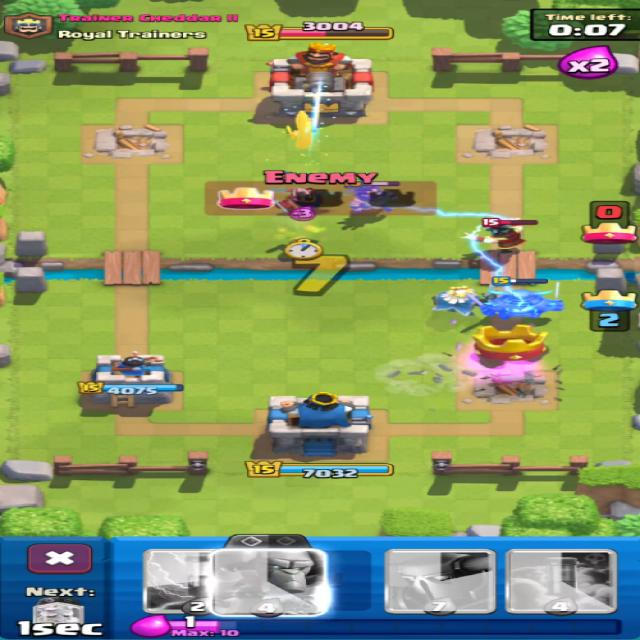Enemy-ElectroWizard: (465, 221, 536, 250)
Enemy-KingTower-Activated: (269, 43, 372, 116)
Player-ElectroWizard: (349, 186, 390, 213)
Player-KingTower-Activated: (266, 392, 372, 456)
Player-MagicArcher: (275, 188, 319, 212)
Player-PEKKA: (480, 283, 562, 319)
Player-PrincessTower: (78, 351, 183, 406)
Player-RoyalGhost: (433, 286, 495, 316)
